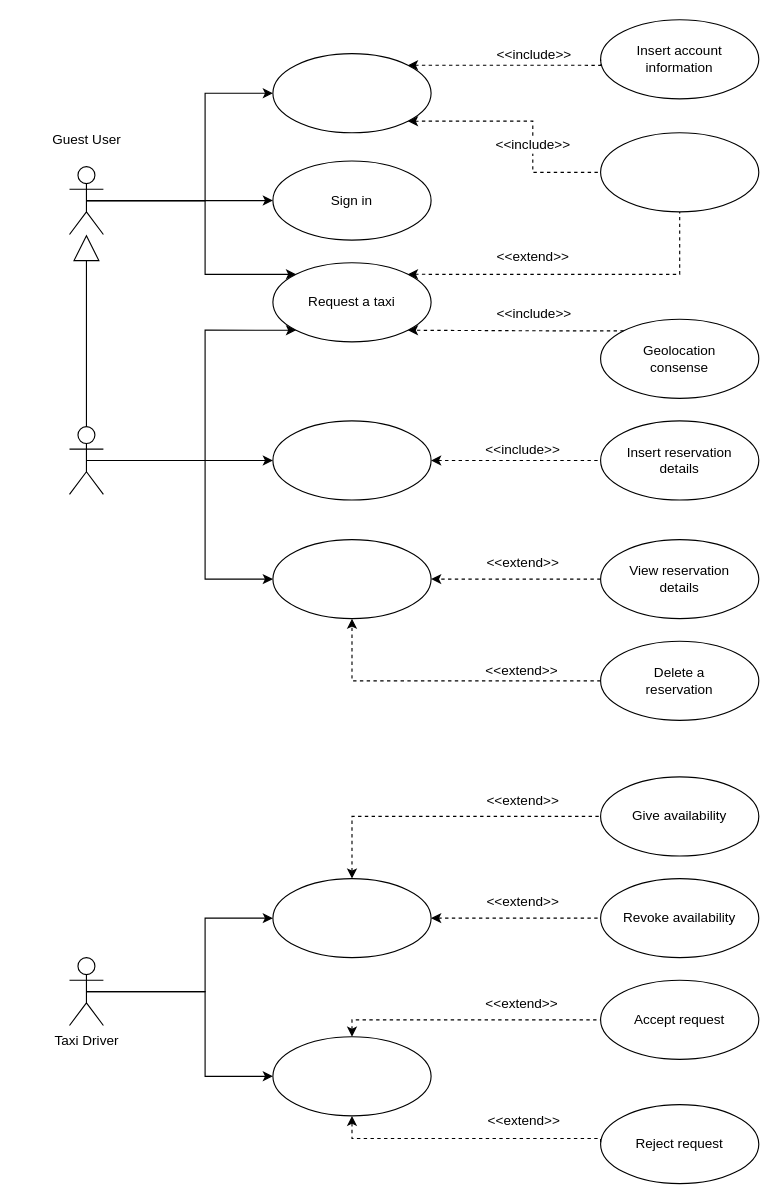
The diagram is 779 pixels wide and 1203 high, and some of its shapes have lost their labels. Here are the shapes that lost their labels. From the top down, the centre of each, then its label:
At (351,93): "Sign up".
At (679,172): "Insert basic information".
At (85,459): "Registered Passenger".
At (351,460): "Make a reservation".
At (351,578): "Manage a reservation".
At (351,917): "Manage availability".
At (351,1076): "Manage requests".
